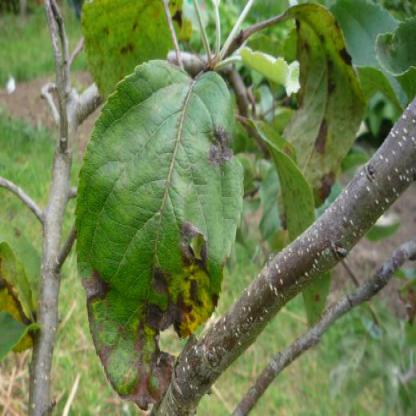apple scab leaf: (74, 49, 236, 411)
